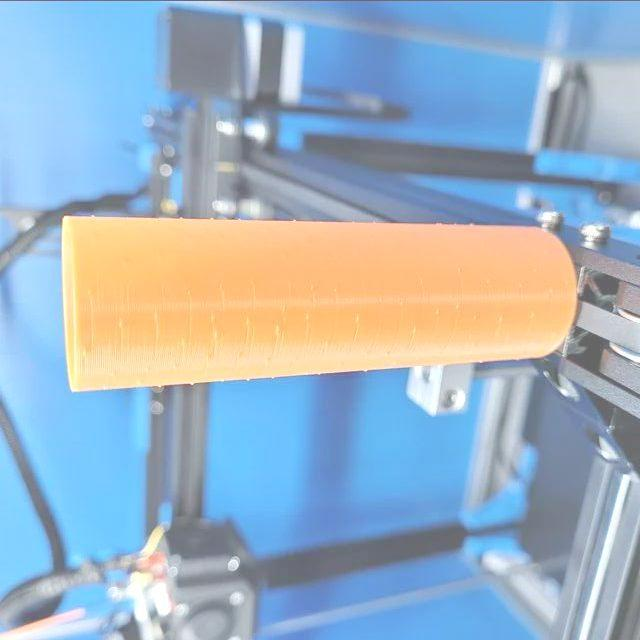blobs: (116, 312, 127, 328), (216, 280, 228, 292), (241, 312, 251, 326), (351, 310, 361, 324), (526, 309, 536, 323), (303, 309, 312, 323), (150, 310, 160, 322), (178, 334, 188, 346), (411, 322, 421, 334), (471, 314, 482, 324), (432, 304, 443, 314), (274, 323, 283, 335), (143, 362, 152, 373), (81, 346, 89, 358), (516, 280, 524, 292), (484, 274, 492, 285), (208, 309, 215, 321), (280, 302, 288, 312), (496, 314, 504, 324), (85, 287, 93, 297), (234, 350, 242, 360), (264, 352, 272, 362), (322, 338, 330, 347), (213, 329, 220, 339), (205, 352, 212, 362), (308, 282, 316, 290), (456, 265, 464, 273), (546, 286, 554, 294), (503, 331, 511, 339), (454, 300, 460, 310), (186, 288, 193, 296), (110, 367, 116, 375)
